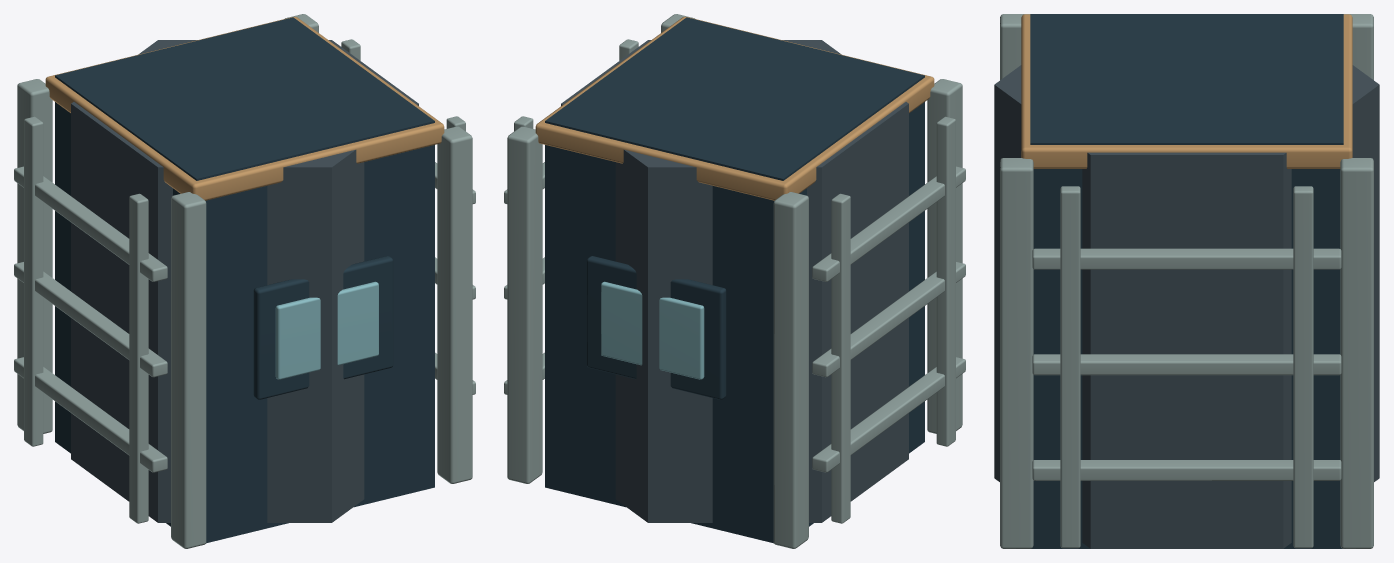
Rendered from receiver-top-1.glb.
3 views of the same model, side by side, from view 1: azimuth 30°, elevation 25°; view 2: azimuth 150°, elevation 25°; view 3: azimuth 270°, elevation 25° (orthographic). The views are drawn at different scales.
Parts seen in each view (by area): view 1: receiver_2, receiver_1, receiver_0, receiver_3, receiver_4; view 2: receiver_2, receiver_1, receiver_0, receiver_3, receiver_4; view 3: receiver_0, receiver_2, receiver_1, receiver_3.
Part boxes in pixels (bbox=[...]): receiver_2: bbox=[55, 17, 434, 543]; receiver_1: bbox=[14, 14, 475, 548]; receiver_0: bbox=[71, 40, 418, 522]; receiver_3: bbox=[45, 16, 444, 200]; receiver_4: bbox=[275, 281, 378, 379]; receiver_2: bbox=[545, 17, 924, 543]; receiver_1: bbox=[504, 14, 965, 548]; receiver_0: bbox=[561, 40, 908, 522]; receiver_3: bbox=[535, 16, 934, 200]; receiver_4: bbox=[601, 281, 704, 379]; receiver_0: bbox=[994, 65, 1379, 548]; receiver_2: bbox=[1030, 14, 1343, 548]; receiver_1: bbox=[1000, 14, 1373, 548]; receiver_3: bbox=[1021, 14, 1352, 168].
Bounding box in the file's own units: 0.94 × 1 × 0.86.
